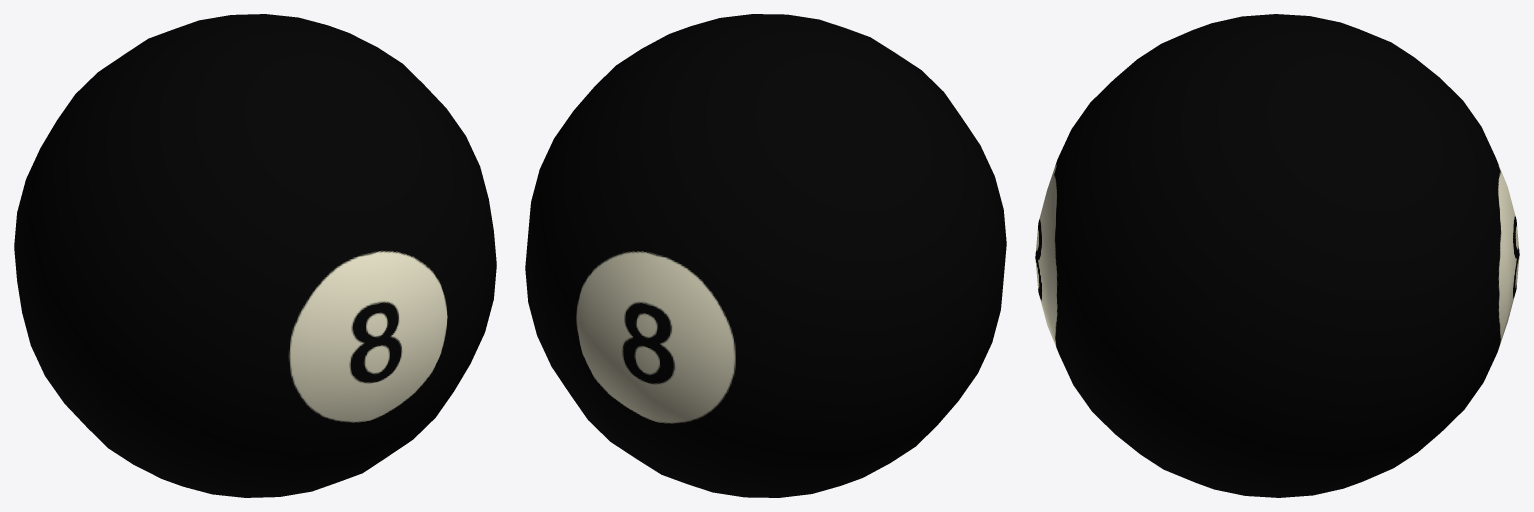
3 renders of one model, left to right at view 1: azimuth 30°, elevation 25°; view 2: azimuth 150°, elevation 25°; view 3: azimuth 270°, elevation 25°, orthographic.
Parts seen in each view (by area): view 1: pSphere1; view 2: pSphere1; view 3: pSphere1.
Part boxes in pixels (left/top/right/bottom): pSphere1: left=14, top=14, right=496, bottom=497; pSphere1: left=525, top=14, right=1006, bottom=497; pSphere1: left=1035, top=14, right=1519, bottom=497.
Bounding box in the file's own units: 0.02 × 0.02 × 0.02.
Materials: 1 (1 with a texture image).
